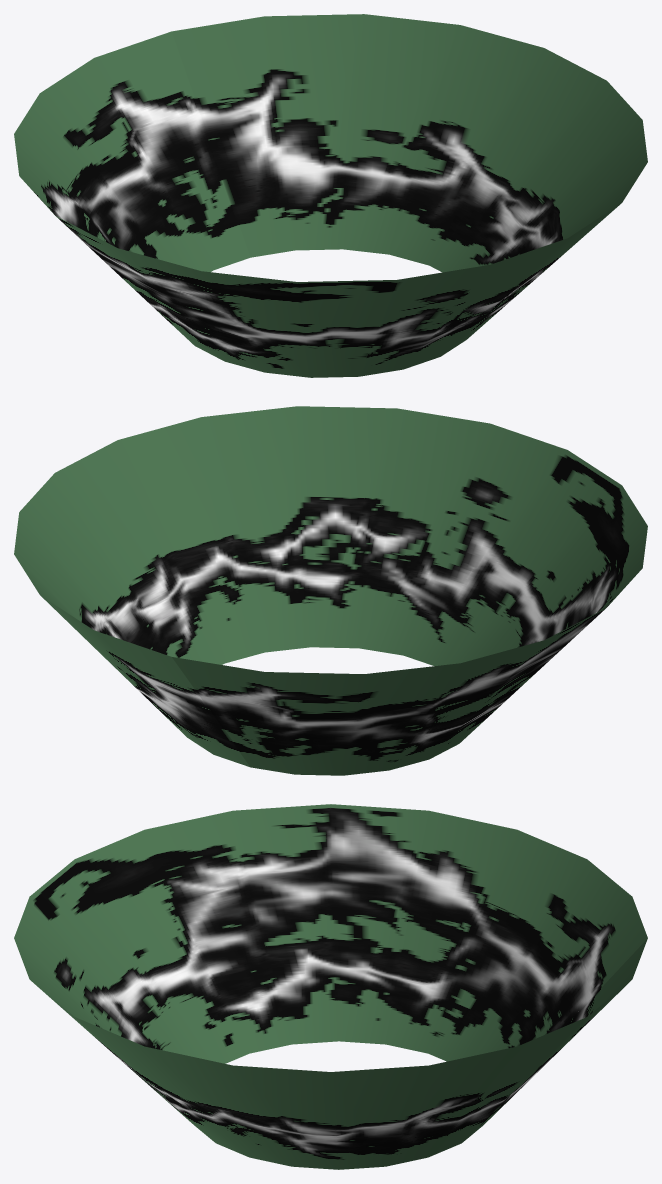
Rendered from labakou_01.FBX.
3 views of the same model, one above another, from view 1: azimuth 30°, elevation 25°; view 2: azimuth 150°, elevation 25°; view 3: azimuth 270°, elevation 25° (orthographic).
Visible parts, largest first — view 1: labakou_01; view 2: labakou_01; view 3: labakou_01.
Boxes of the visible parts, x1,y1,x2,y2 form: labakou_01: (14, 14, 647, 377); labakou_01: (14, 406, 647, 775); labakou_01: (14, 804, 647, 1169).
Size of the model in its own units: 157 by 45.74 by 157.
